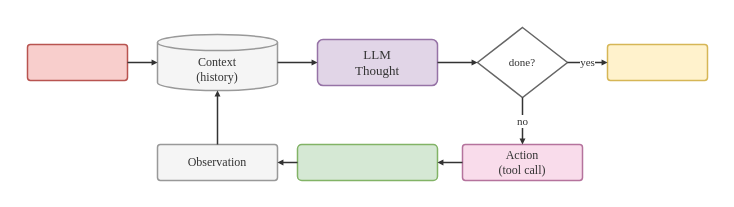
This 734x207 diagram has some shape labels left out. Each missing label, with the centre of its shape:
"Final answer" belongs at pixel 657 62.
"Task / user query" belongs at pixel 77 62.
"Tools / environment" belongs at pixel 367 162.
